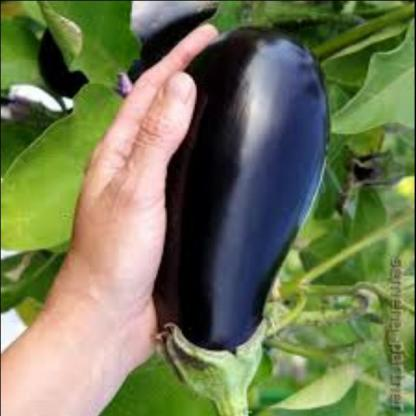eggplant: (159, 23, 342, 415)
